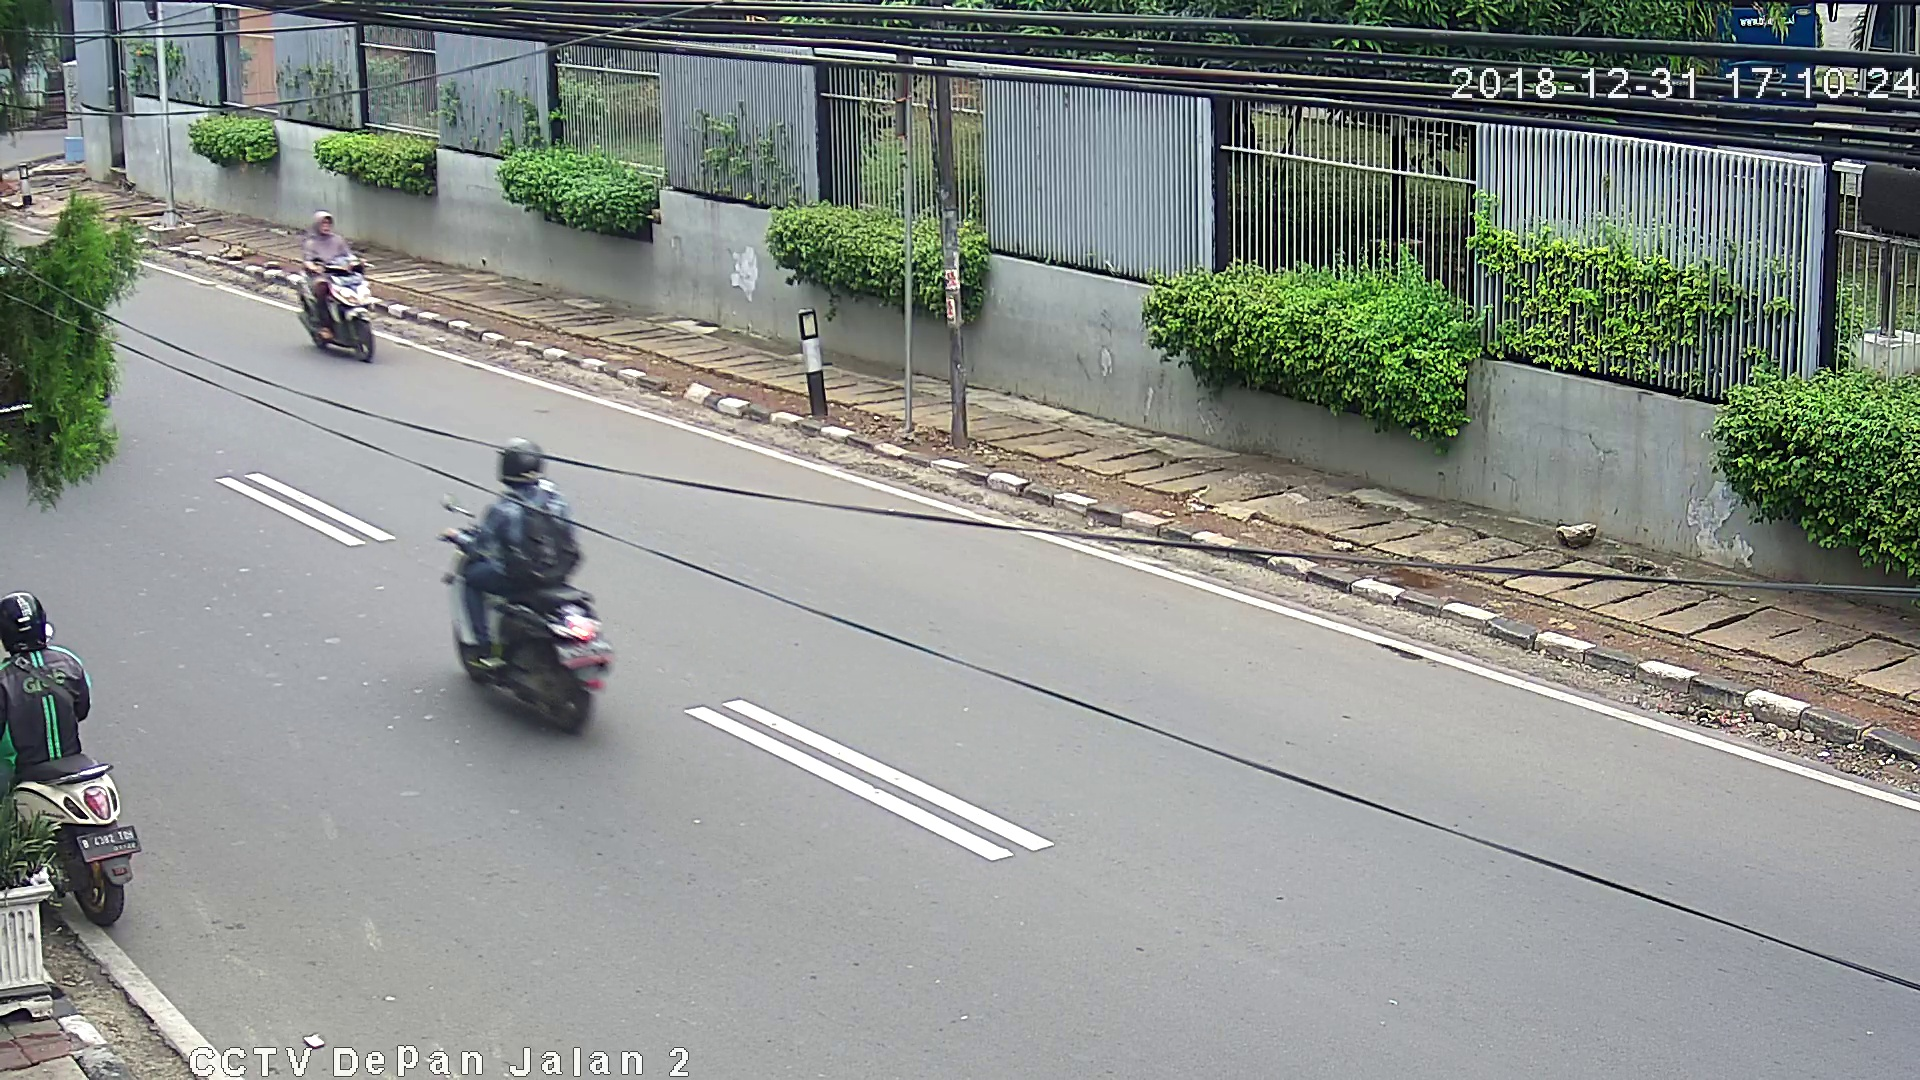motorcycle: (433, 434, 613, 745), (1, 593, 148, 940), (293, 206, 380, 363)
